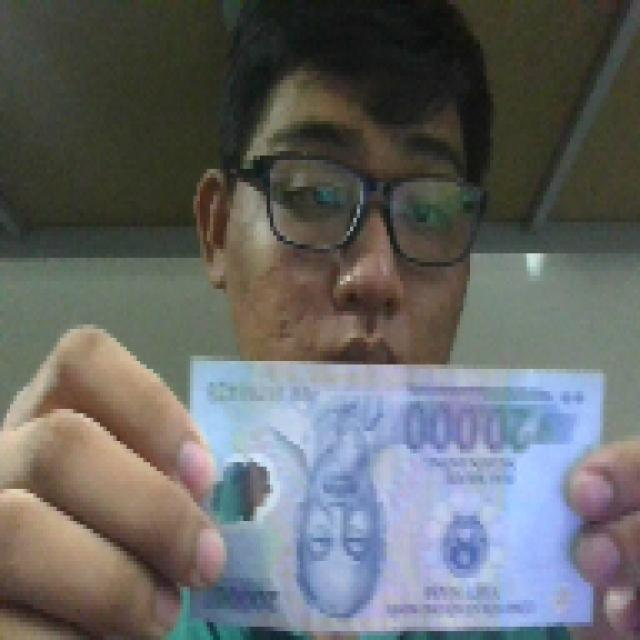20 000 VND: (180, 351, 610, 636)
